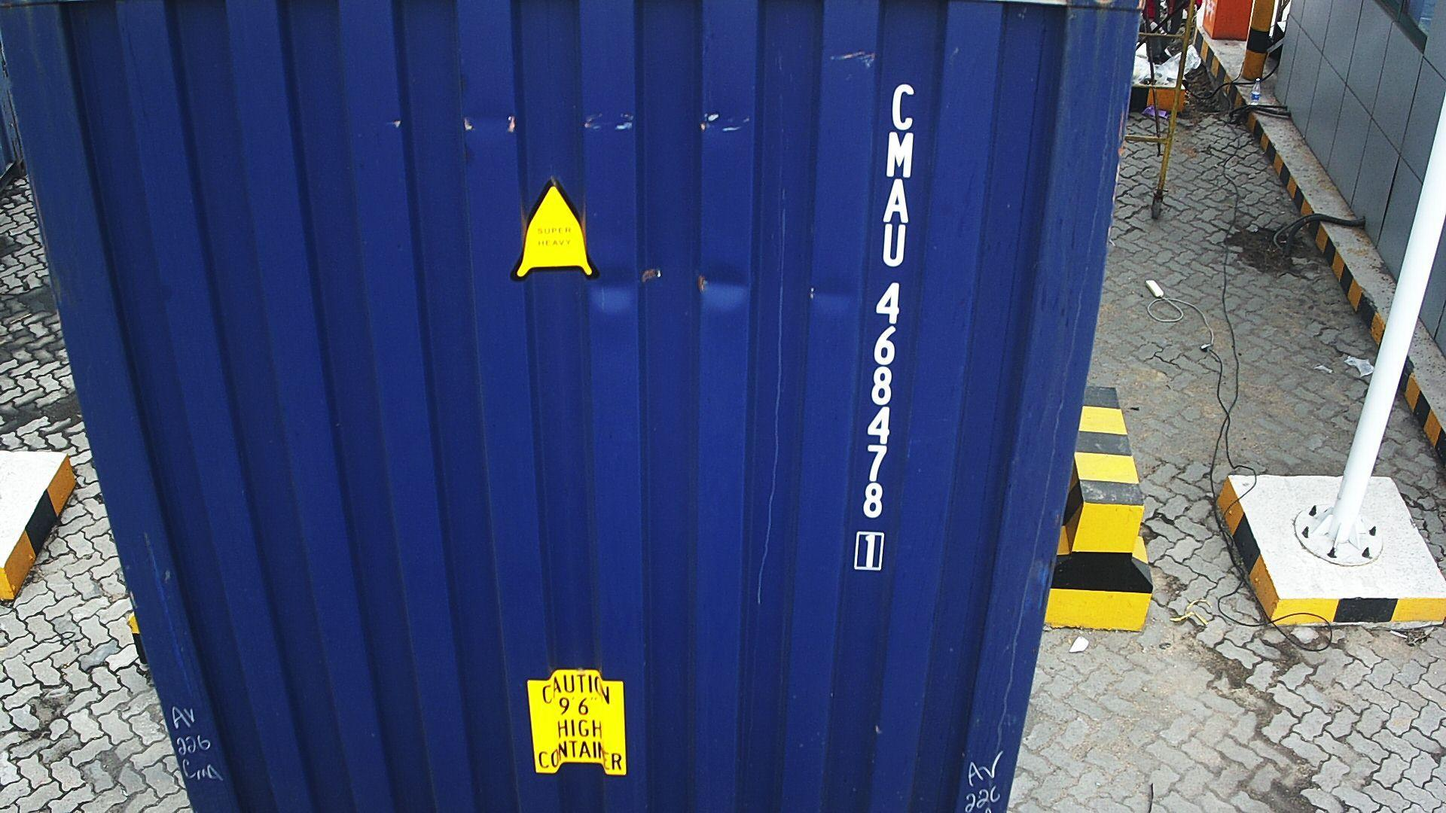container-numbers: (846, 73, 920, 578)
